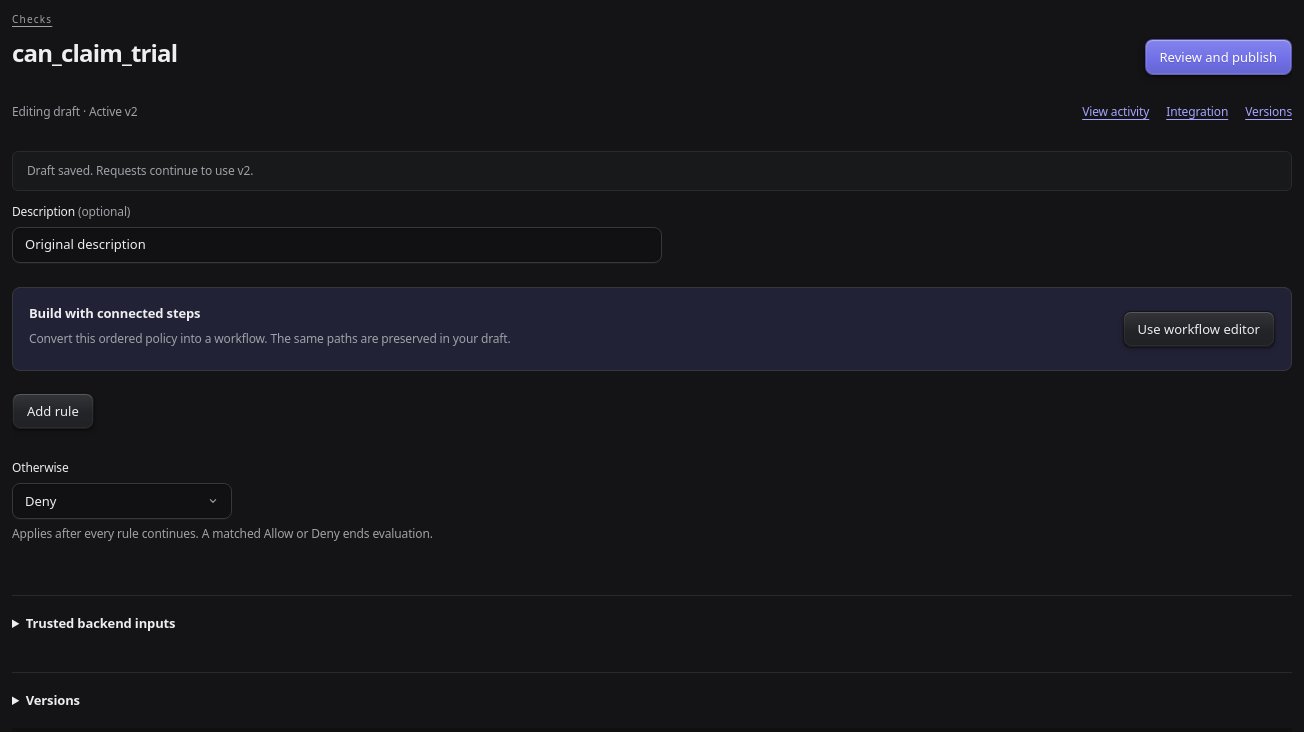
Scenario: check workflows › publishes the reviewed draft and active revision atomically, and preserves the draft on stale publication
What coordinates should you click on to do the following:
click the button "Review and publish"
I would click on:
 (1218, 57)
Its box is [1144, 39, 1292, 75].
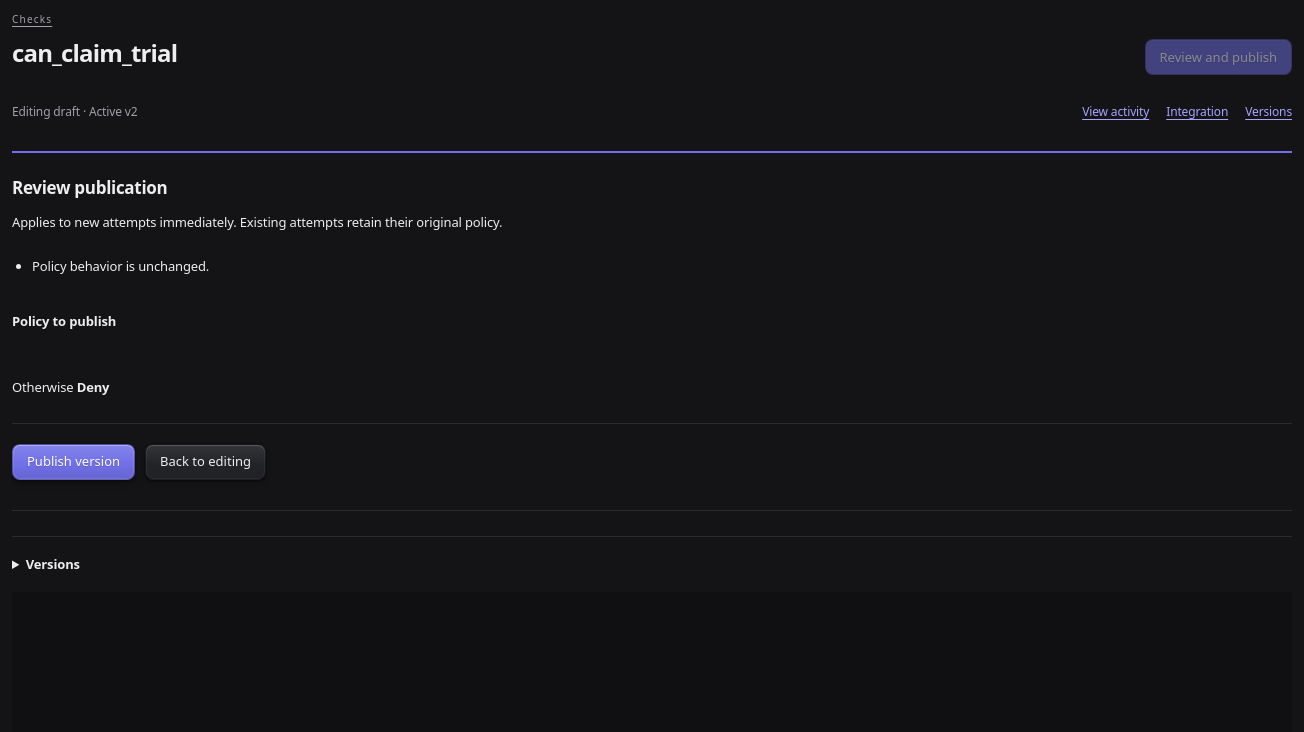
What coordinates should you click on to do the following:
click the button "Publish version"
I would click on:
 (74, 462)
Its box is [12, 444, 135, 480].
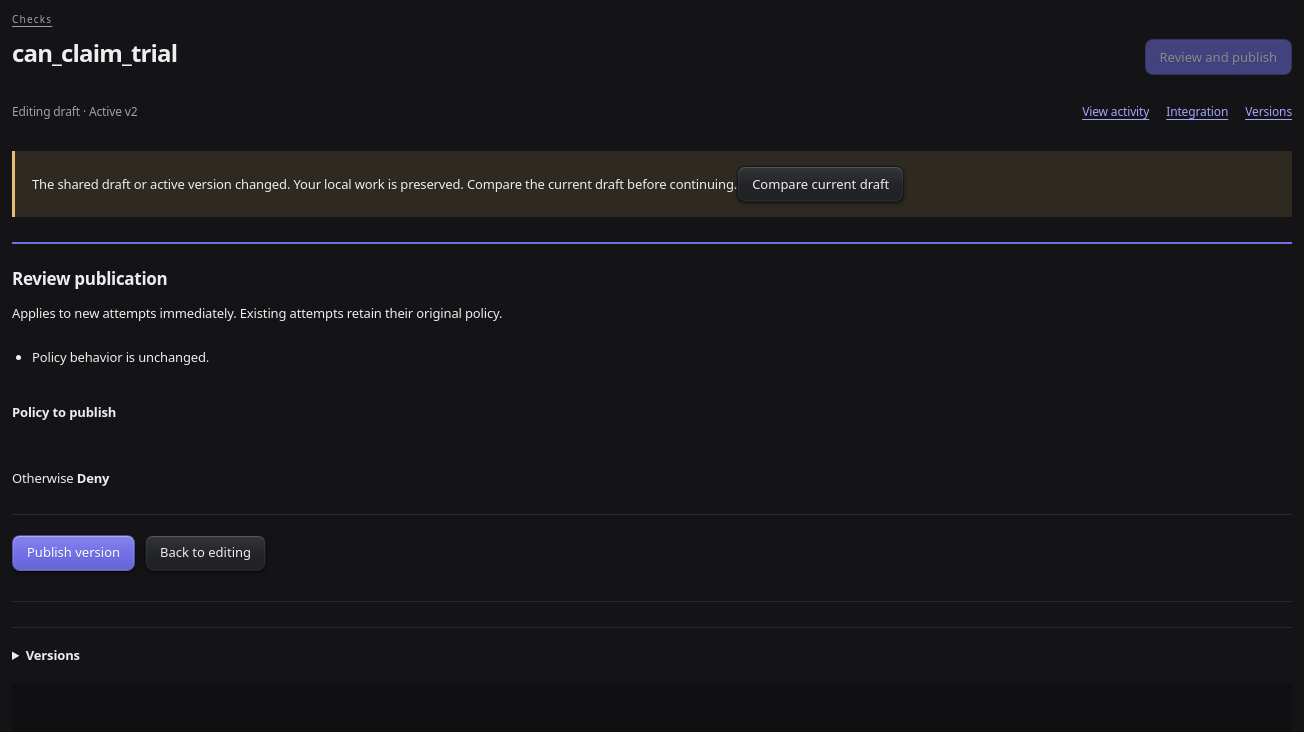
Check: the button "Back to editing" is enabled, box [145, 534, 266, 570]
Check: the text "The shared draft or active version changed" is shown, box [32, 174, 737, 192]
What coordinates should you click on to do the following:
click the button "Compare current draft"
I would click on:
 (821, 184)
Its box is [737, 166, 904, 202].
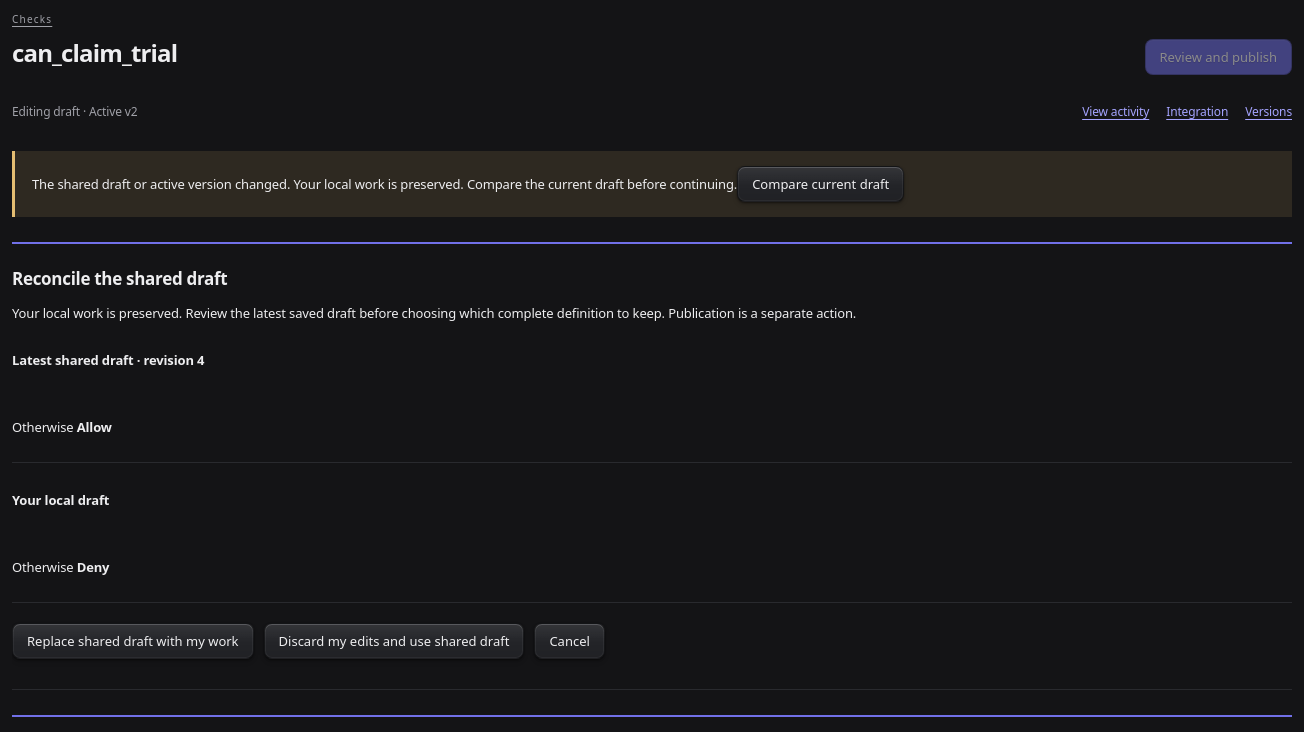
Check: the heading "Reconcile the shared draft" is shown, box [12, 267, 227, 290]
Check: the heading "Your local draft" is shown, box [12, 491, 109, 509]
